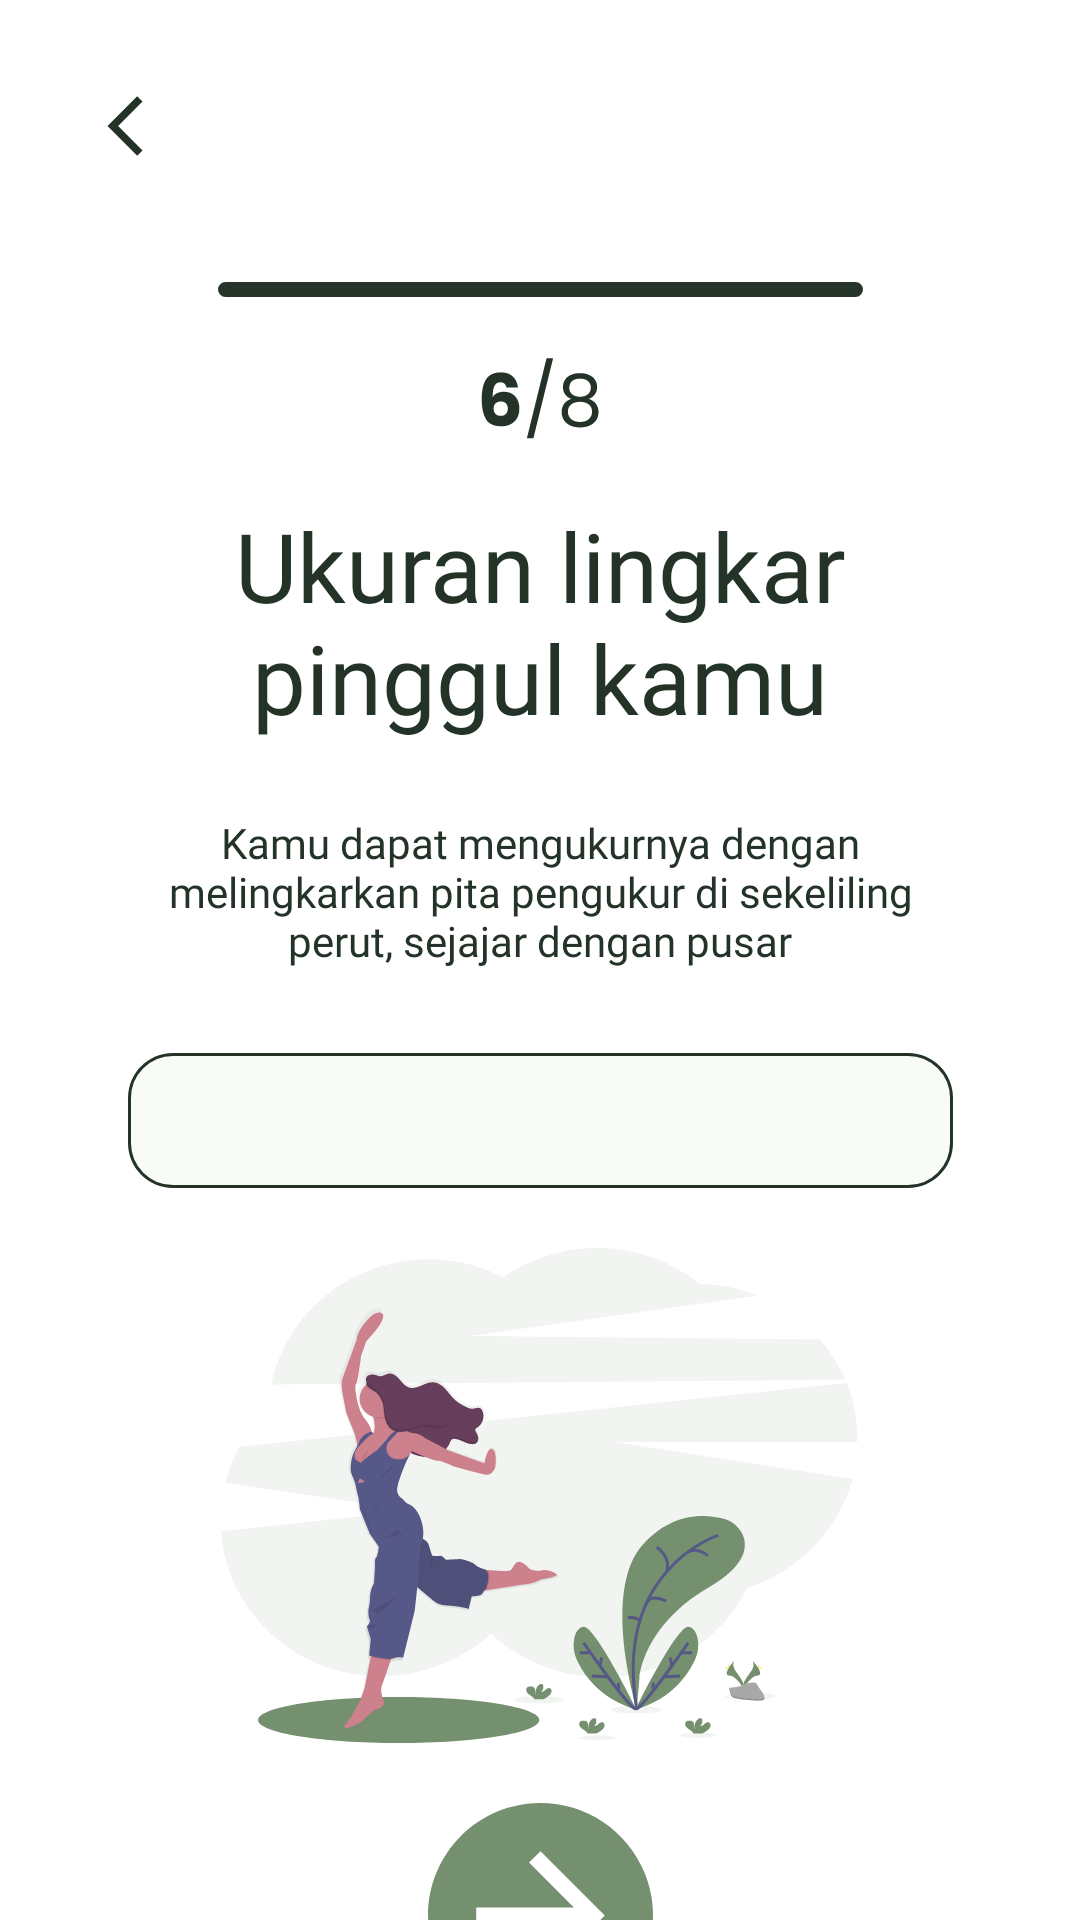

Icons on this 1080w x 1920h Android screen, each with the point to tap as [x,y]:
back: [125,126]
